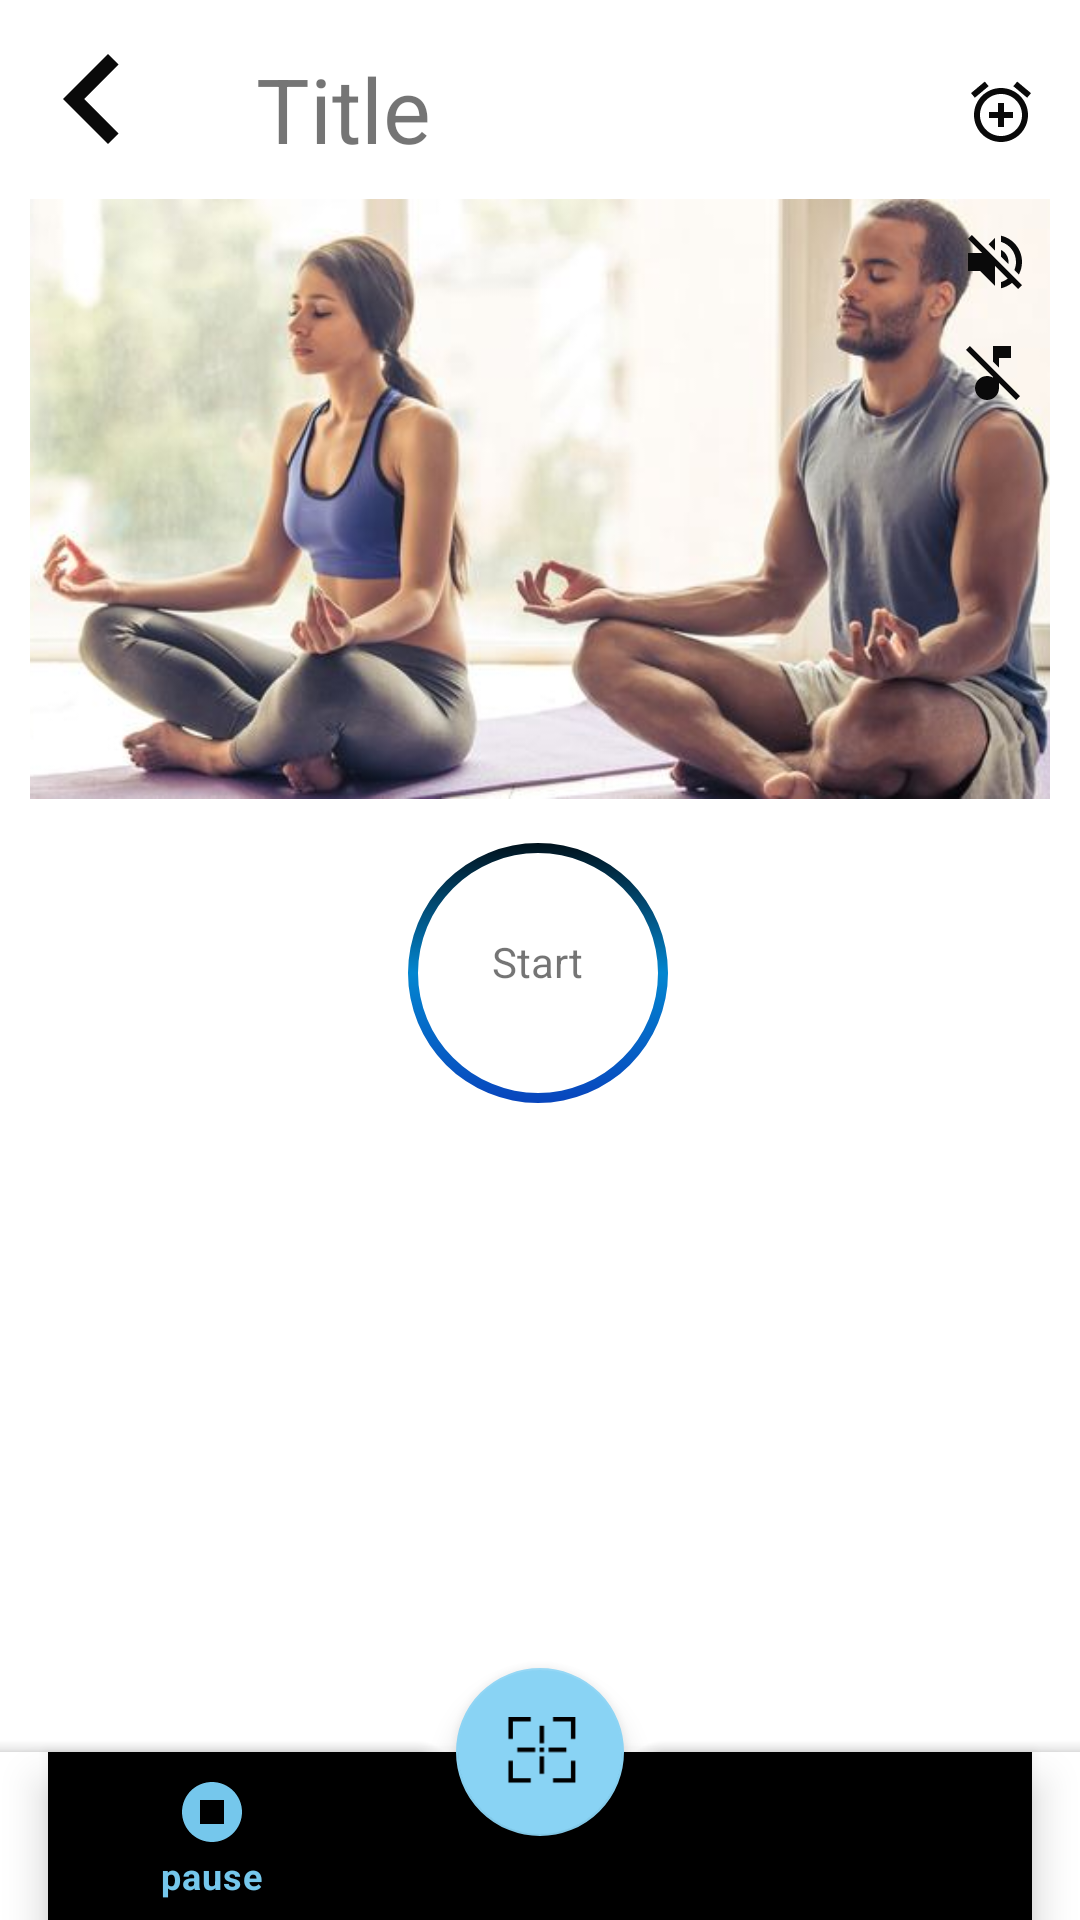

Icons on this 1080px×1920px Android screen, each with the point to tap as (x,y):
add alarm: (1001,111)
music off: (988,377)
navigate before: (91,99)
Scan: (540,1752)
volume off: (990,262)
